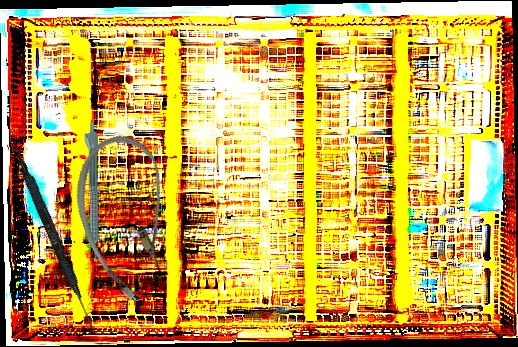Cannula: (59, 127, 196, 310)
Handpiece: (82, 122, 100, 263)
Spatula Surgical: (2, 133, 103, 336)
